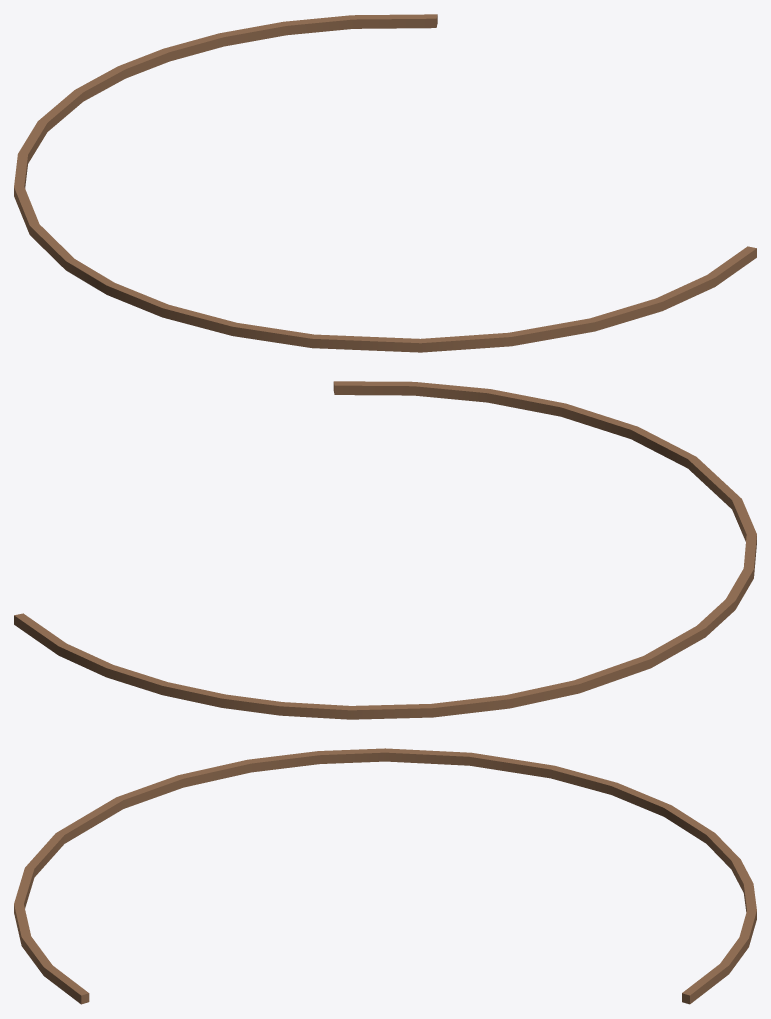
The model's file is S_Metal_Stem_04.fbx.
The picture shows the model from 3 angles, top to bottom: view 1: azimuth 30°, elevation 25°; view 2: azimuth 150°, elevation 25°; view 3: azimuth 270°, elevation 25°; orthographic projection. The views are drawn at different scales.
Visible parts, largest first — view 1: S_Metal_Stem_04; view 2: S_Metal_Stem_04; view 3: S_Metal_Stem_04.
Part boxes in pixels (x1,y1,x2,y2): S_Metal_Stem_04: [14, 14, 756, 352]; S_Metal_Stem_04: [14, 381, 756, 719]; S_Metal_Stem_04: [14, 748, 756, 1004].
Bounding box in the file's own units: 201 × 3.38 × 255.
